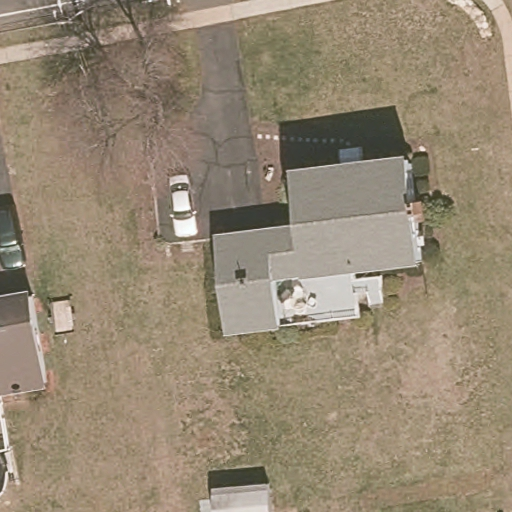DT: (51, 1, 84, 29)
